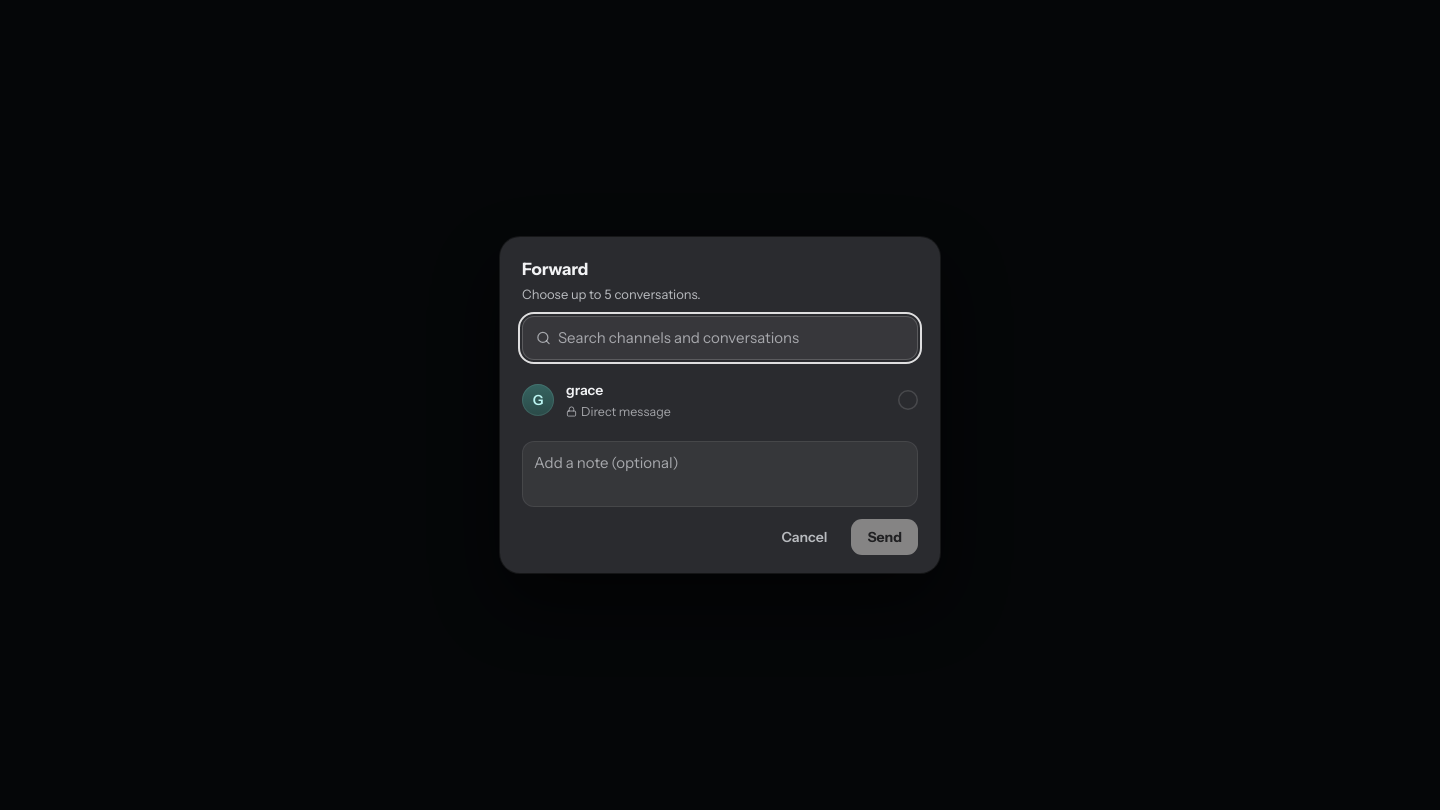
it: ForwardPicker › is a 440 card dialog; Send is its one cream button and stays off until something is chosen
The image size is (1440, 810).
Expected: the button "Send" is disabled, [851,520,918,556]
Click the text "grace" at (585, 390), box [566,381,603,399]
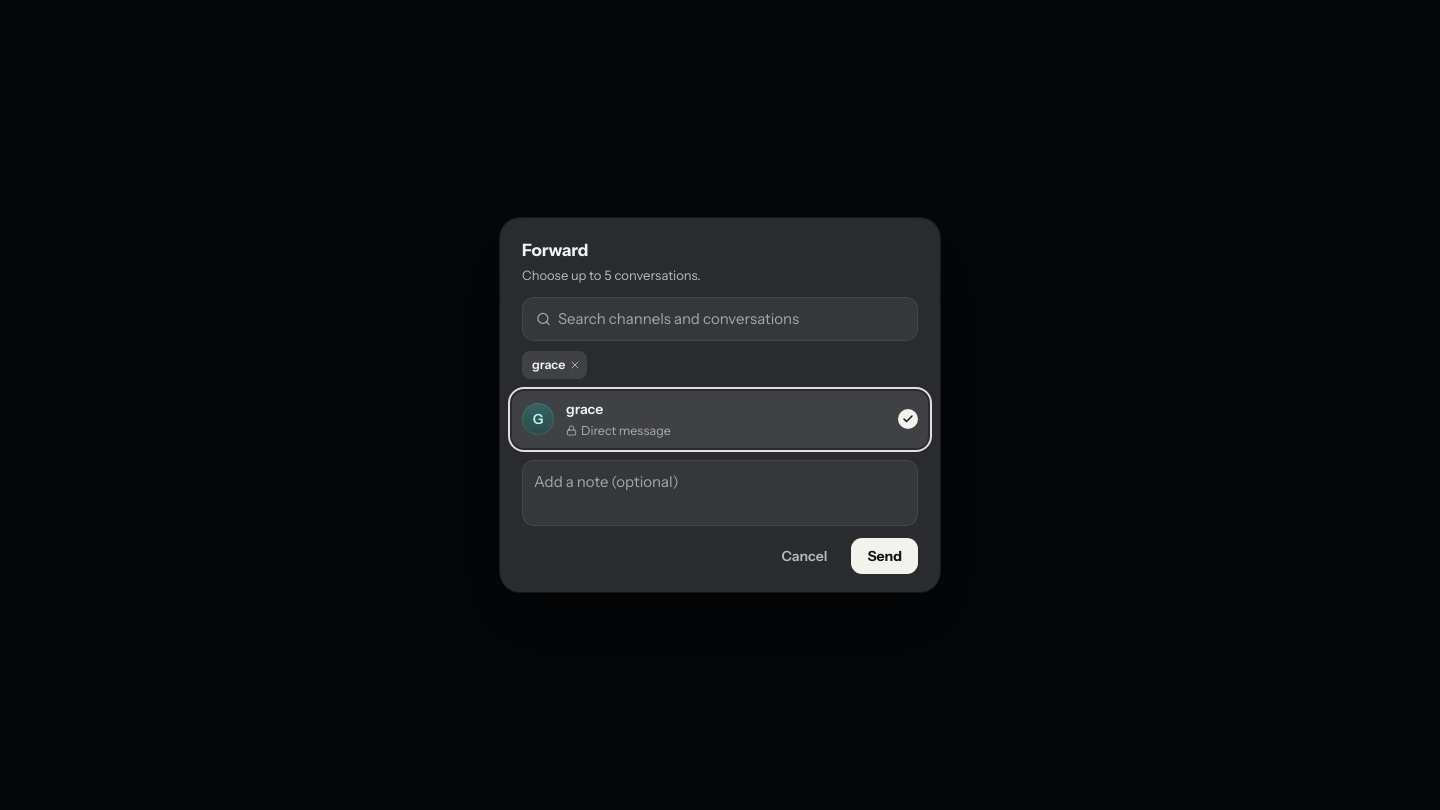
Expected: the button "Send" is enabled, [851,538,918,574]
Expected: the button with aria-label "Remove grace" is shown, [522,351,587,379]
